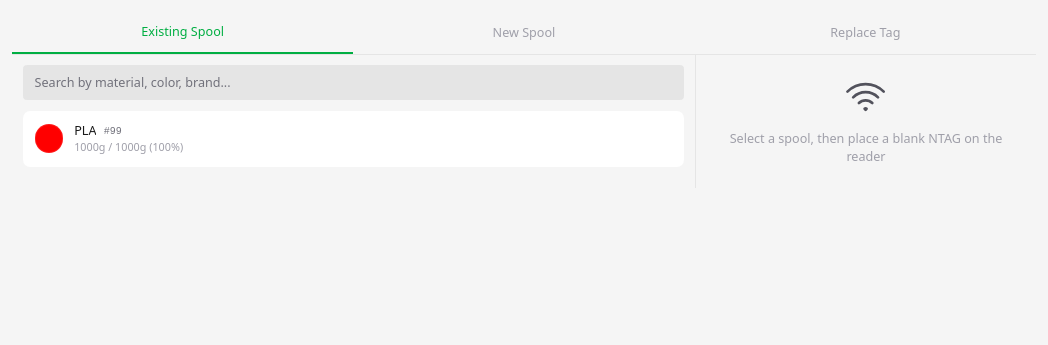
SpoolBuddyWriteTagPage › leaves "Writing tag..." with the reason when the written tag could not be linked
The image size is (1048, 345).
Click the text "PLA": (85, 131) [74, 122, 96, 140]
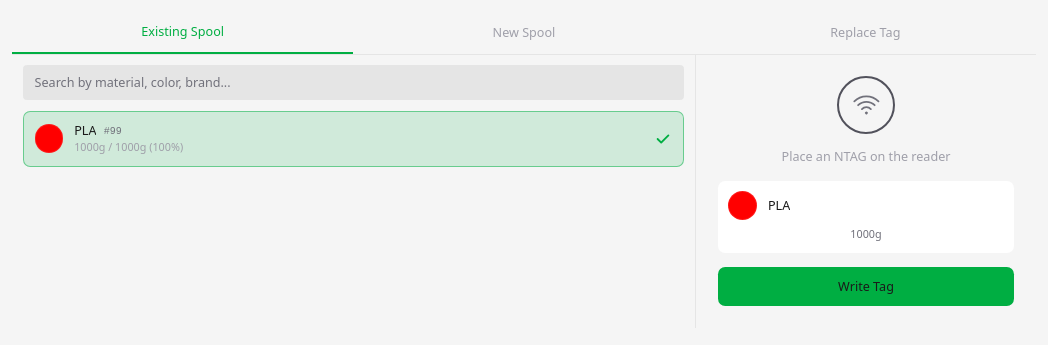
Check: the button "Write Tag" is enabled
Click the button "Write Tag": (866, 287) [718, 267, 1014, 306]
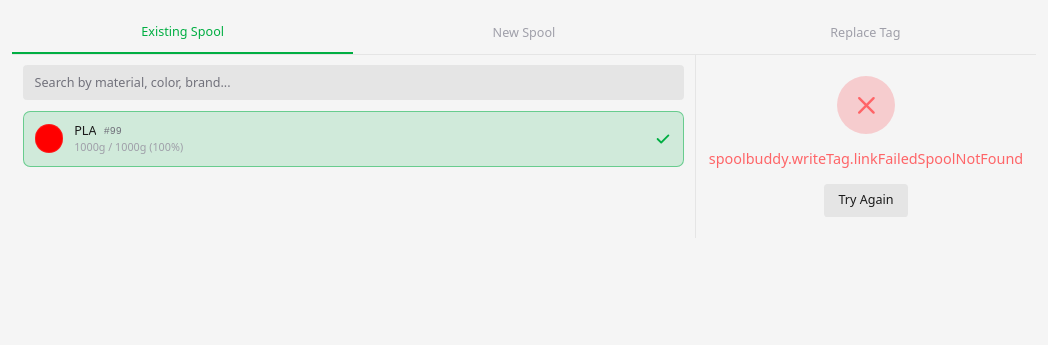
Check: the text "spoolbuddy.writeTag.linkFailedSpoolNotFound" is shown, box [709, 148, 1023, 170]
